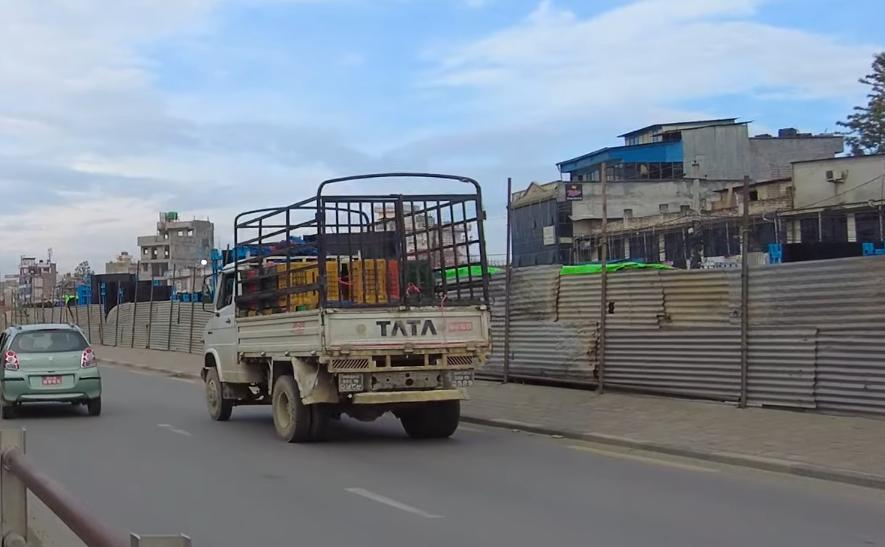car: (0, 305, 115, 425)
transport_vehicle: (195, 161, 485, 460)
